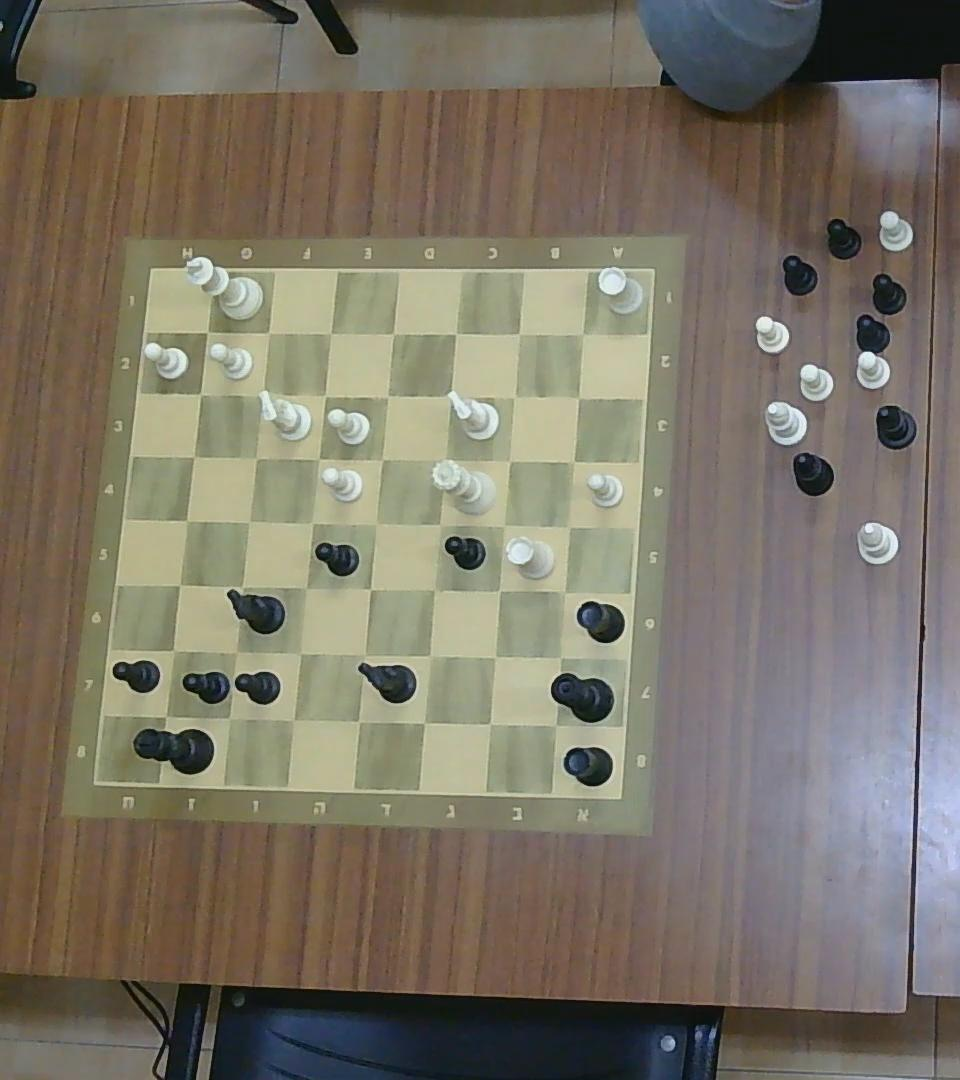xcorner: (215, 703, 242, 731), (153, 701, 179, 729), (411, 708, 437, 735), (542, 712, 569, 738), (417, 643, 443, 669), (280, 705, 305, 732), (167, 572, 192, 598), (346, 707, 371, 733), (161, 638, 186, 664), (477, 711, 503, 736), (486, 577, 511, 603), (481, 645, 506, 670), (375, 383, 399, 409), (547, 644, 573, 668), (561, 448, 585, 473), (352, 642, 376, 667), (431, 446, 455, 471), (224, 638, 247, 664), (236, 508, 259, 534), (174, 507, 198, 531), (288, 640, 311, 665), (364, 512, 387, 536), (318, 320, 341, 344), (294, 575, 317, 599), (421, 578, 444, 602), (188, 381, 211, 405), (427, 512, 450, 536), (552, 580, 576, 603), (438, 384, 461, 408), (381, 321, 403, 346), (300, 511, 323, 534), (491, 513, 514, 536), (306, 447, 329, 470), (359, 577, 382, 600), (230, 575, 253, 598), (196, 320, 218, 344), (245, 445, 267, 469), (558, 514, 580, 538), (498, 448, 520, 472), (257, 320, 279, 344), (251, 381, 273, 405), (182, 445, 204, 468), (371, 447, 393, 470), (444, 322, 466, 345), (568, 385, 590, 407), (509, 322, 530, 345), (572, 322, 592, 345), (504, 386, 524, 406), (315, 384, 334, 405)
